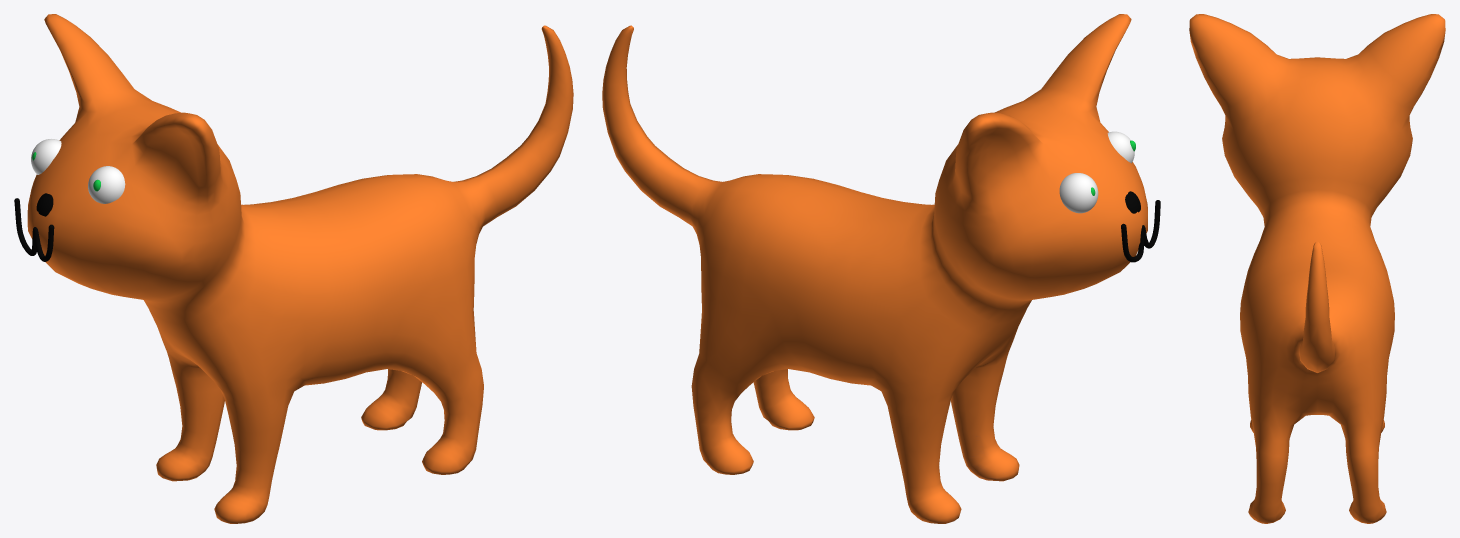
Rendered from Basic Cat.glb.
3 views of the same model, side by side, from view 1: azimuth 30°, elevation 25°; view 2: azimuth 150°, elevation 25°; view 3: azimuth 270°, elevation 25° (orthographic). The views are drawn at different scales.
Parts seen in each view (by area): view 1: mesh_id27, mesh_id36, mesh_id42, mesh_id29; view 2: mesh_id27, mesh_id29, mesh_id42; view 3: mesh_id27.
Part boxes in pixels (x1,y1,x2,y2): mesh_id27: (27, 14, 573, 523); mesh_id36: (88, 166, 125, 203); mesh_id42: (14, 198, 54, 261); mesh_id29: (31, 139, 61, 174); mesh_id27: (602, 14, 1147, 523); mesh_id29: (1059, 173, 1098, 213); mesh_id42: (1121, 200, 1160, 262); mesh_id27: (1189, 14, 1445, 523).
Bounding box in the file's own units: 1.13 × 0.9039 × 0.5506.
Materials: 5 (5 with a texture image).
